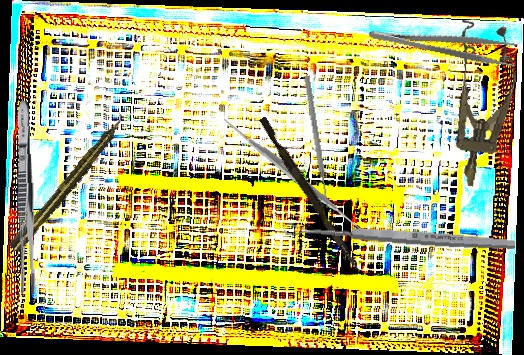Dressing Forceps: (366, 14, 521, 70), (13, 100, 39, 295)
Handpiece: (7, 111, 131, 255)
Pusher: (255, 116, 367, 274), (302, 75, 332, 209)
Spatula Surgical: (223, 106, 363, 245)
Speculum: (438, 19, 524, 191)
Surgical Spoon: (283, 220, 516, 253)
